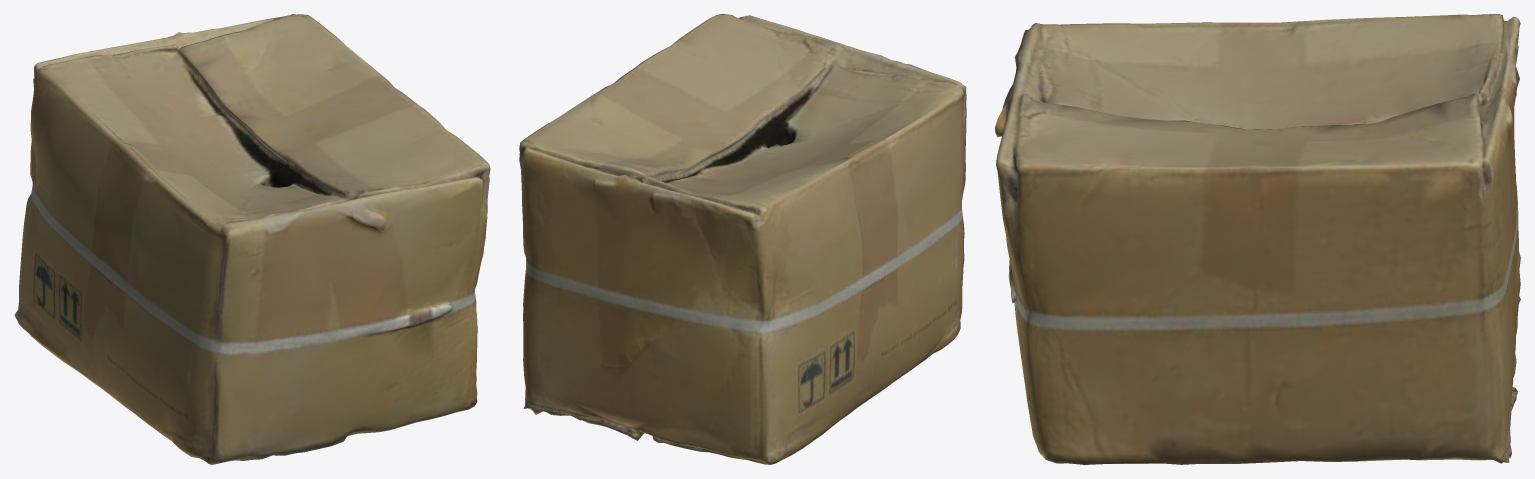
File: carton-high.glb
3 renders of one model, left to right at view 1: azimuth 30°, elevation 25°; view 2: azimuth 150°, elevation 25°; view 3: azimuth 270°, elevation 25°, orthographic. The views are drawn at different scales.
Parts seen in each view (by area): view 1: cardboard_box_01; view 2: cardboard_box_01; view 3: cardboard_box_01.
Boxes of the visible parts, bbox=[...] form: cardboard_box_01: bbox=[14, 14, 490, 464]; cardboard_box_01: bbox=[519, 14, 966, 464]; cardboard_box_01: bbox=[995, 14, 1520, 464].
Bounding box in the file's own units: 0.3868 × 0.3418 × 0.5159.
Materials: 1 (1 with a texture image).
